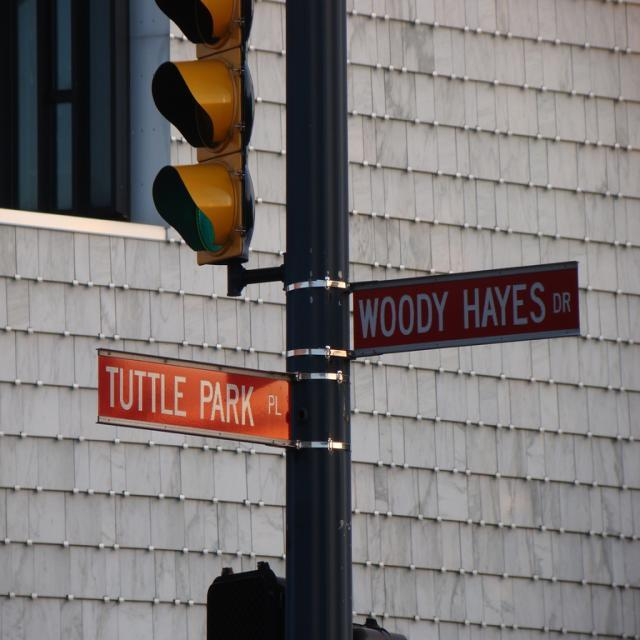traffic light: (152, 0, 253, 270)
